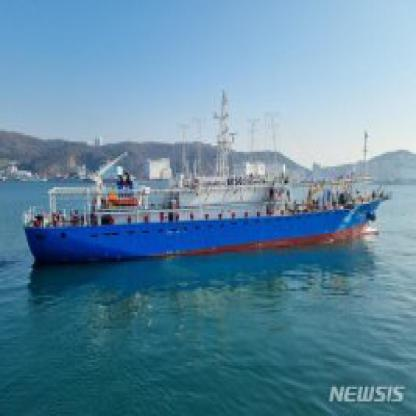fish-b: (17, 85, 407, 277)
